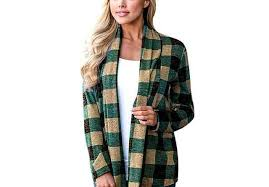squared: (77, 23, 199, 183)
